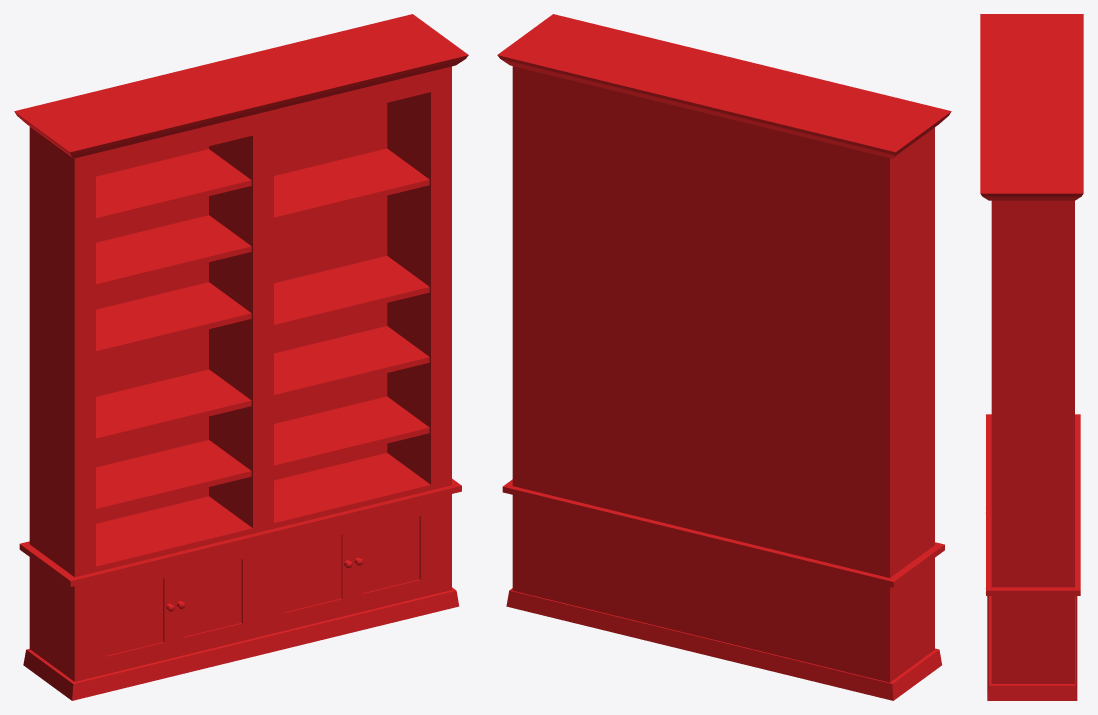
Rendered from Bookcase.fbx.
3 renders of one model, left to right at view 1: azimuth 30°, elevation 25°; view 2: azimuth 150°, elevation 25°; view 3: azimuth 270°, elevation 25°, orthographic. The views are drawn at different scales.
Parts seen in each view (by area): view 1: Bookcase; view 2: Bookcase; view 3: Bookcase.
Part boxes in pixels (left/top/right/bottom): Bookcase: left=14, top=14, right=468, bottom=700; Bookcase: left=497, top=14, right=951, bottom=700; Bookcase: left=980, top=14, right=1083, bottom=700.
Bounding box in the file's own units: 150 × 199 × 36.68.
